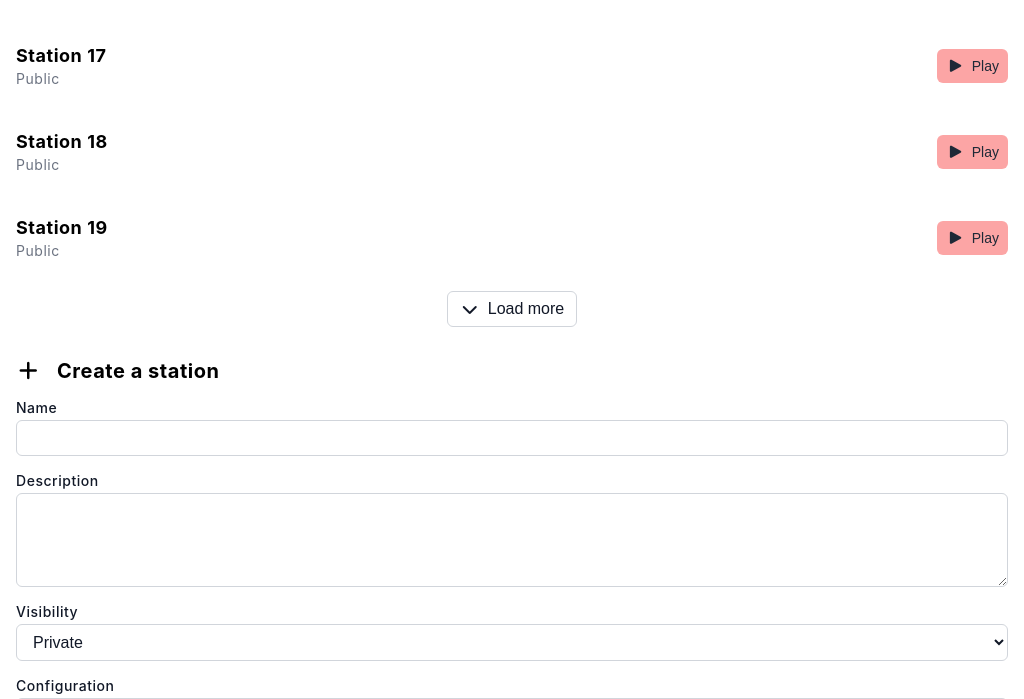
Test: RadioView › loads more stations
The width and height of the screenshot is (1024, 699).
(page scrolled)
Click the button "Load more" at (512, 309), box left=447, top=291, right=577, bottom=327
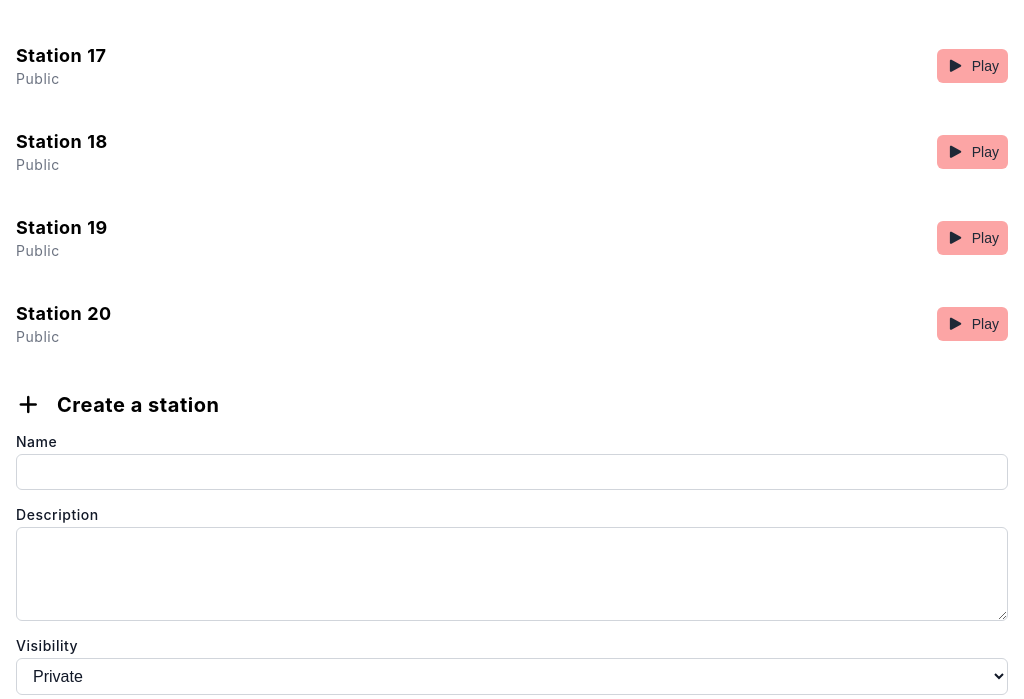
Now the text "Station 20" is shown, box left=16, top=303, right=112, bottom=324
